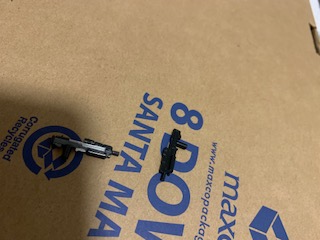rifle: (47, 132, 121, 168), (155, 128, 189, 184)
